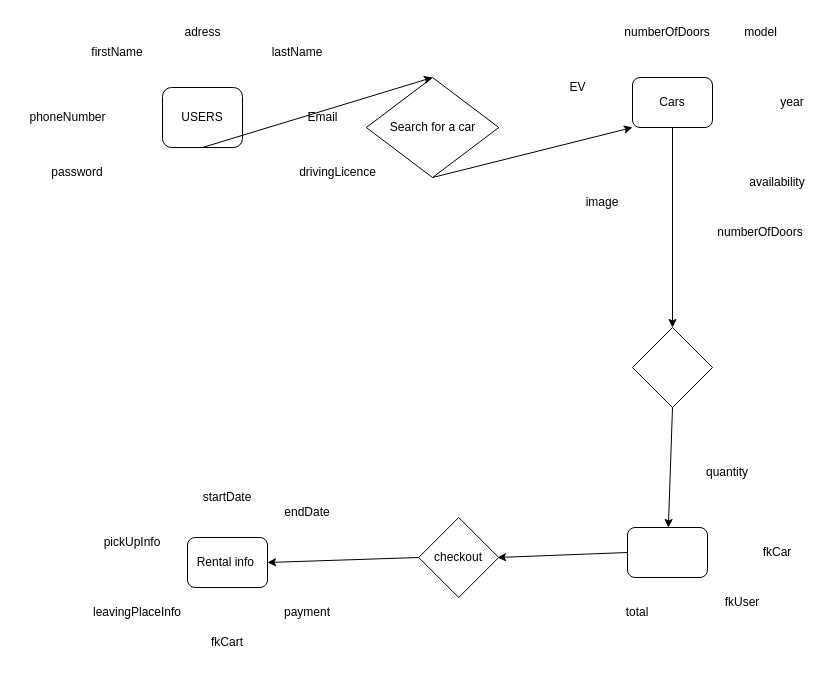
Some shapes in this 839 by 674 pixel diagram are drawn without their labels. Each missing label, with the box of its shape:
Added to cart: (632, 326, 712, 408)
Cart: (626, 526, 708, 578)
